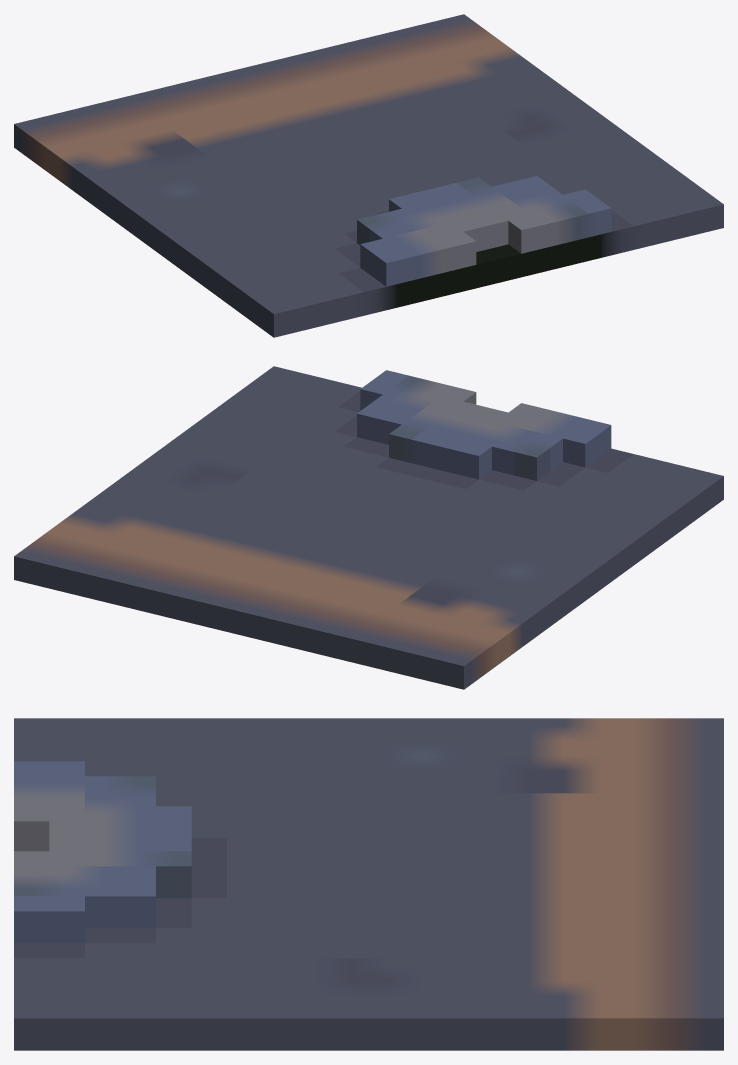
The model's file is Road_Chunk-3.fbx.
The picture shows the model from 3 angles, top to bottom: view 1: azimuth 30°, elevation 25°; view 2: azimuth 150°, elevation 25°; view 3: azimuth 270°, elevation 25°; orthographic projection. The views are drawn at different scales.
Parts seen in each view (by area): view 1: Road_Chunk_3; view 2: Road_Chunk_3; view 3: Road_Chunk_3.
Boxes of the visible parts, x1,y1,x2,y2 form: Road_Chunk_3: (14, 14, 723, 337); Road_Chunk_3: (14, 366, 723, 689); Road_Chunk_3: (14, 718, 723, 1050).
Size of the model in its own units: 200 by 20 by 200.
